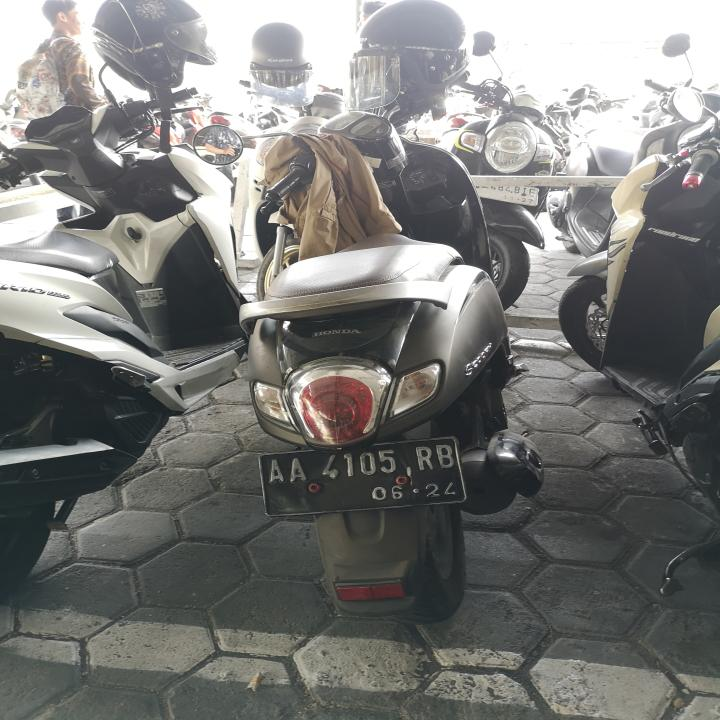plate: (258, 434, 469, 518)
